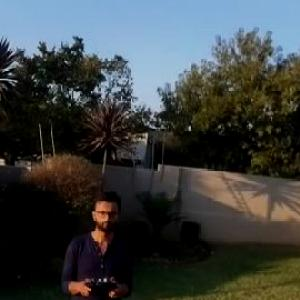follow: (56, 187, 136, 299)
